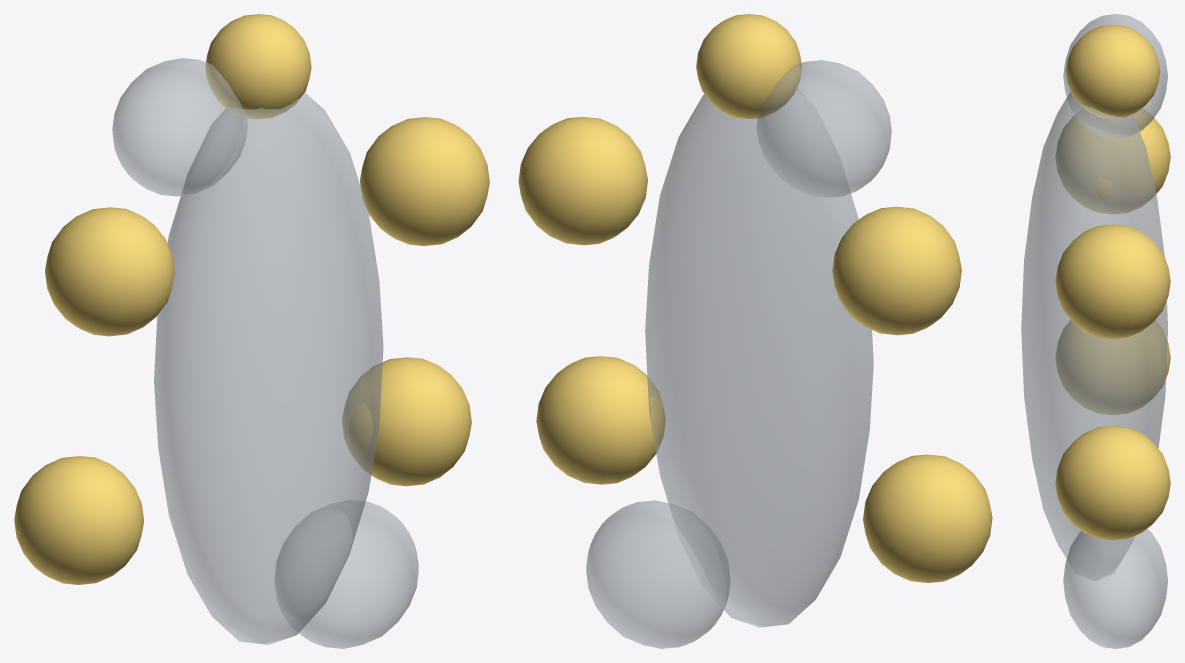
File: dimensional-kit.web.glb
The picture shows the model from 3 angles, left to right: view 1: azimuth 30°, elevation 25°; view 2: azimuth 150°, elevation 25°; view 3: azimuth 270°, elevation 25°; orthographic projection. The views are drawn at different scales.
Visible parts, largest first — view 1: gilded-crystal-cluster-00, gilded-crystal-cluster-07, gilded-crystal-cluster-06, gilded-crystal-cluster-02, gilded-crystal-cluster-01, gilded-crystal-cluster-04, gilded-crystal-cluster-03, gilded-crystal-cluster-05; view 2: gilded-crystal-cluster-00, gilded-crystal-cluster-07, gilded-crystal-cluster-06, gilded-crystal-cluster-01, gilded-crystal-cluster-02, gilded-crystal-cluster-04, gilded-crystal-cluster-03, gilded-crystal-cluster-05; view 3: gilded-crystal-cluster-00, gilded-crystal-cluster-04, gilded-crystal-cluster-03, gilded-crystal-cluster-07, gilded-crystal-cluster-02, gilded-crystal-cluster-01, gilded-crystal-cluster-05, gilded-crystal-cluster-06.
Boxes of the visible parts, box(x1,y1,x2,y2) form: gilded-crystal-cluster-00: box(154, 92, 383, 644); gilded-crystal-cluster-07: box(275, 500, 418, 648); gilded-crystal-cluster-06: box(112, 58, 247, 196); gilded-crystal-cluster-02: box(45, 207, 174, 336); gilded-crystal-cluster-01: box(14, 456, 143, 584); gilded-crystal-cluster-04: box(360, 117, 489, 245); gilded-crystal-cluster-03: box(342, 357, 471, 486); gilded-crystal-cluster-05: box(205, 14, 311, 119); gilded-crystal-cluster-00: box(645, 88, 873, 627); gilded-crystal-cluster-07: box(586, 500, 729, 648); gilded-crystal-cluster-06: box(756, 60, 891, 197); gilded-crystal-cluster-01: box(863, 454, 992, 582); gilded-crystal-cluster-02: box(832, 206, 961, 335); gilded-crystal-cluster-04: box(518, 116, 647, 245); gilded-crystal-cluster-03: box(536, 356, 665, 484); gilded-crystal-cluster-05: box(696, 14, 801, 119); gilded-crystal-cluster-00: box(1021, 92, 1167, 580); gilded-crystal-cluster-04: box(1055, 224, 1170, 338); gilded-crystal-cluster-03: box(1055, 426, 1170, 540); gilded-crystal-cluster-07: box(1063, 528, 1167, 648); gilded-crystal-cluster-02: box(1055, 108, 1170, 213); gilded-crystal-cluster-01: box(1055, 320, 1170, 414); gilded-crystal-cluster-05: box(1066, 25, 1160, 118); gilded-crystal-cluster-06: box(1063, 14, 1167, 138).
Size of the model in its own units: 1.79 by 2.42 by 0.57.
